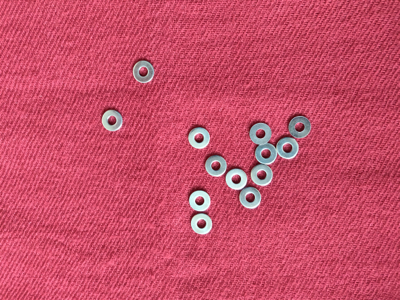circles: (132, 58, 157, 85), (187, 125, 212, 151), (188, 187, 213, 213), (189, 211, 214, 237), (224, 166, 249, 192), (238, 185, 263, 211), (249, 163, 274, 189), (248, 121, 273, 147), (253, 143, 278, 169), (288, 115, 313, 141), (204, 153, 228, 179), (276, 136, 300, 162), (101, 109, 125, 132)
